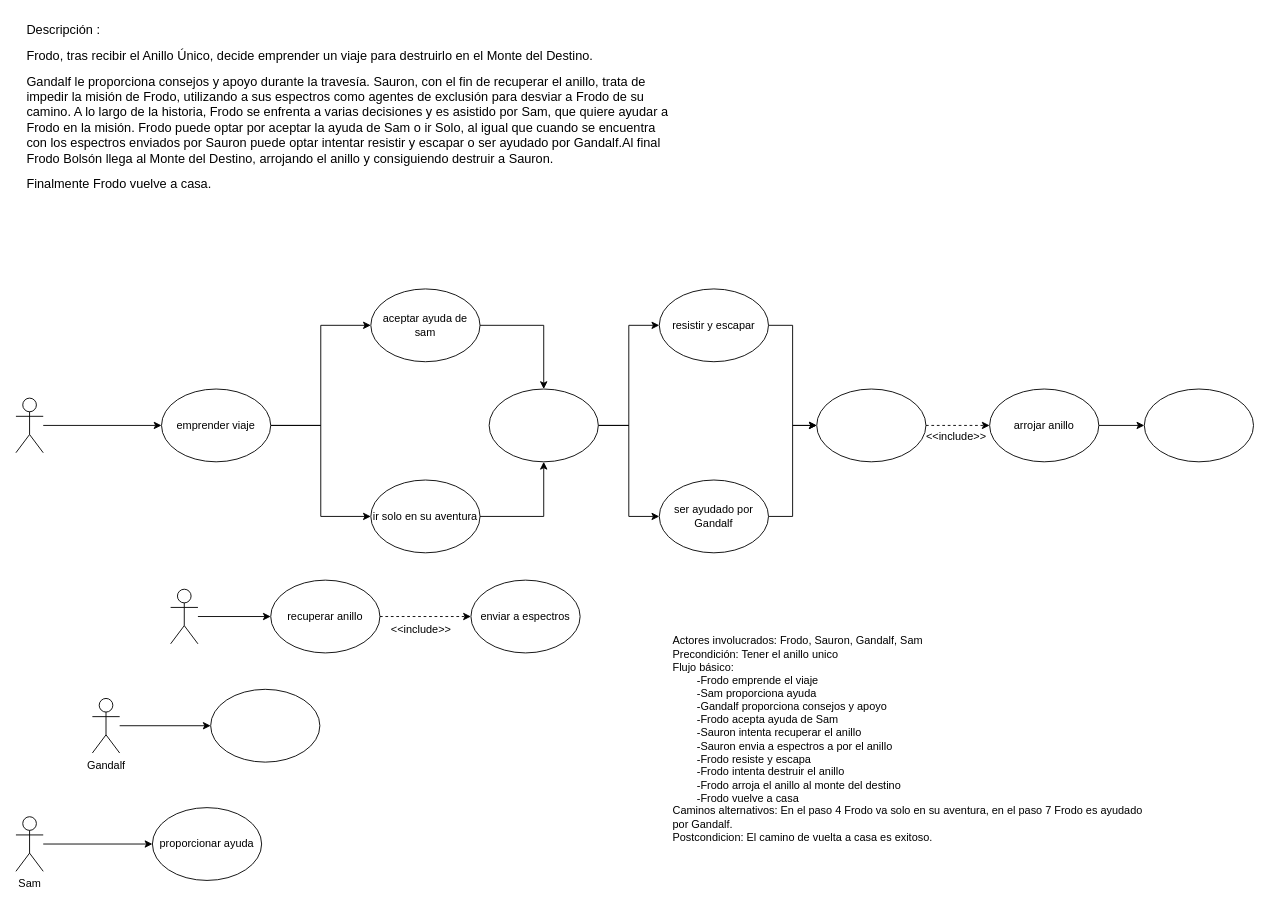
Some shapes in this 1269 by 905 pixel diagram are drawn without their labels. The centre of each missing label's shape, as x and y in pixels:
destruir a Sauron: pixel 871 425
encontrarse con espectros de Sauron: pixel 543 425
Frodo: pixel 29 425
proporcionar consejos y apoyo: pixel 265 725
Sauron: pixel 184 616
volver a casa: pixel 1198 425
